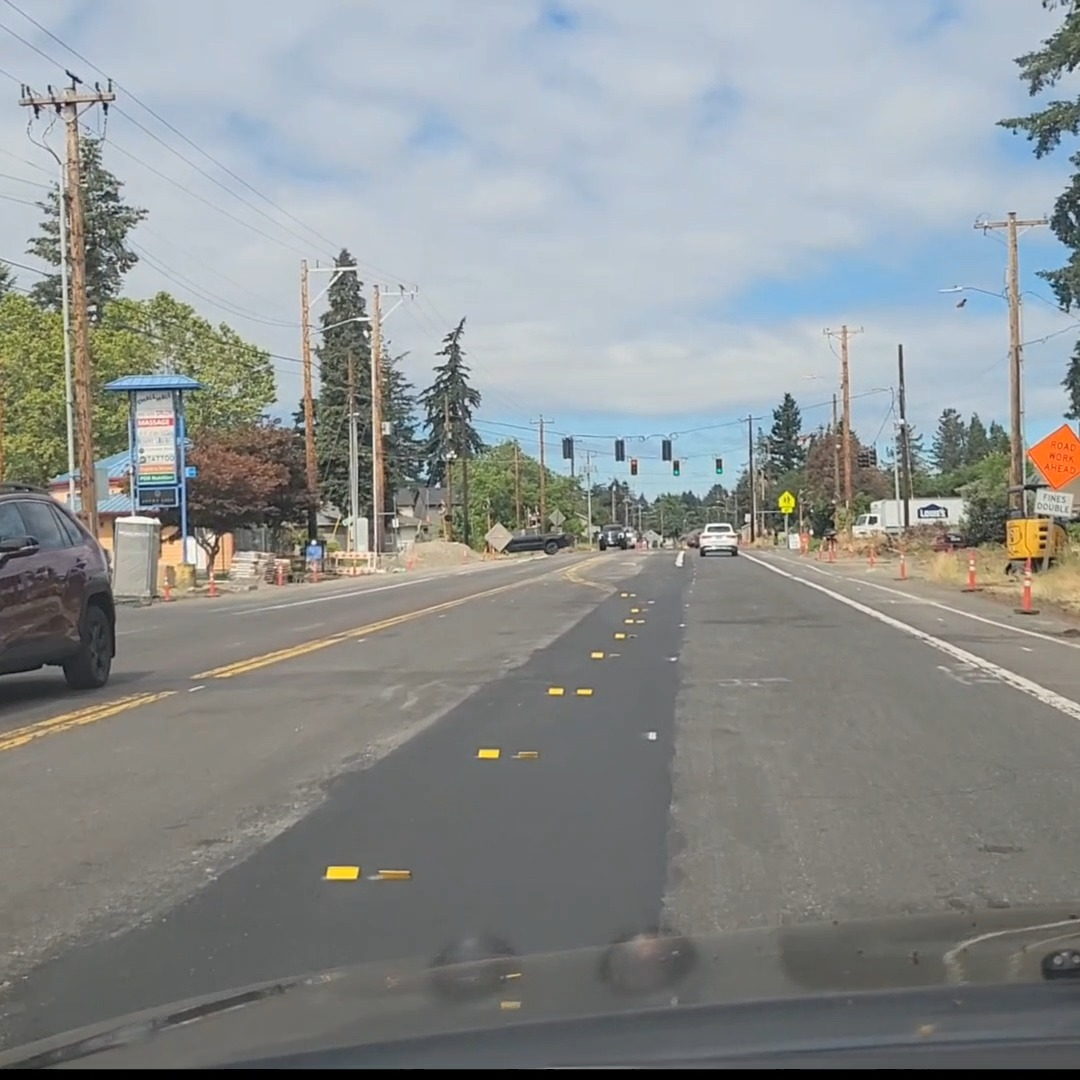car: (1, 482, 117, 694), (501, 527, 573, 555), (697, 522, 739, 557), (596, 524, 636, 550)
crosswalk-sign: (778, 490, 795, 514)
delineator: (1014, 560, 1039, 614), (960, 551, 982, 593), (173, 563, 194, 589), (894, 545, 909, 580), (307, 559, 320, 582), (207, 571, 218, 596), (165, 564, 176, 588), (866, 540, 876, 566), (827, 537, 837, 562), (275, 563, 284, 585), (814, 537, 823, 559), (799, 533, 808, 555), (483, 548, 494, 560), (461, 548, 469, 562)
